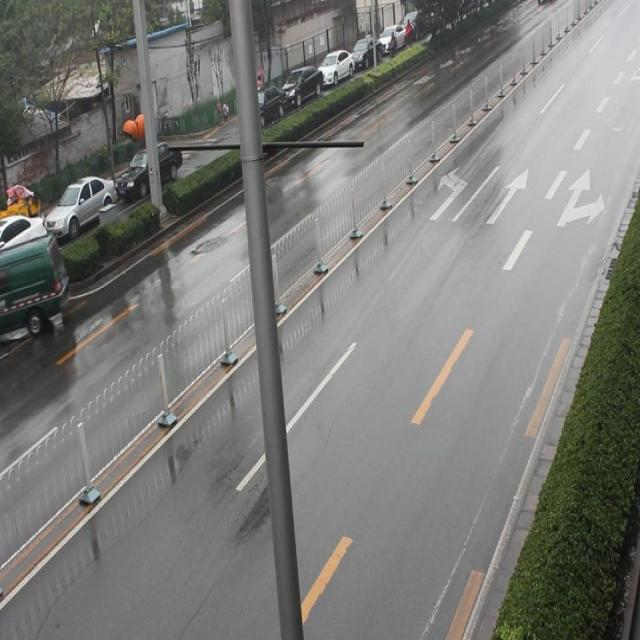truck: (1, 232, 73, 352)
